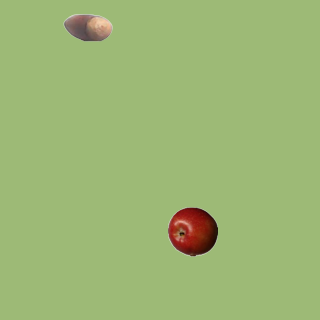Apple Braeburn: (167, 206, 217, 256)
Hazelnut: (62, 2, 112, 52)
